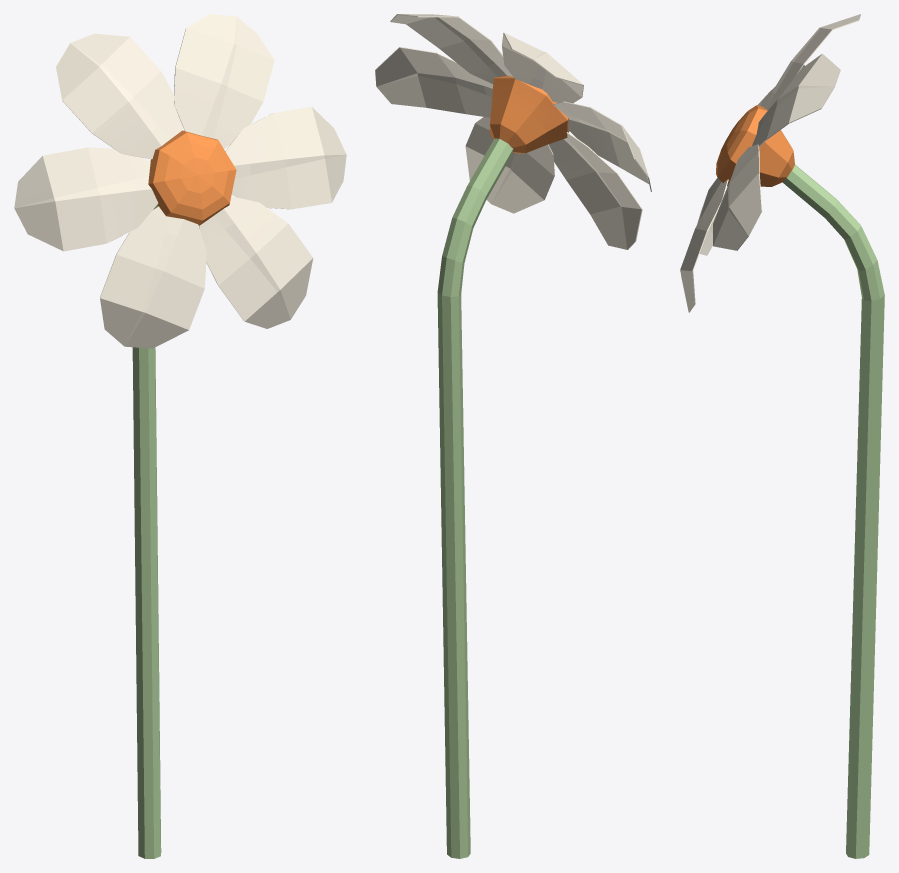
The model's file is Bedroom_2_Flower_231109.glb.
3 views of the same model, side by side, from view 1: azimuth 30°, elevation 25°; view 2: azimuth 150°, elevation 25°; view 3: azimuth 270°, elevation 25° (orthographic). The views are drawn at different scales.
Parts seen in each view (by area): view 1: Bedroom_2_Flower; view 2: Bedroom_2_Flower; view 3: Bedroom_2_Flower.
Part boxes in pixels (x1=…): Bedroom_2_Flower: x1=14, y1=14, x2=346, y2=858; Bedroom_2_Flower: x1=375, y1=14, x2=651, y2=858; Bedroom_2_Flower: x1=680, y1=14, x2=884, y2=858.
Bounding box in the file's own units: 0.203 × 0.5308 × 0.1217.
Materials: 1 (1 with a texture image).
